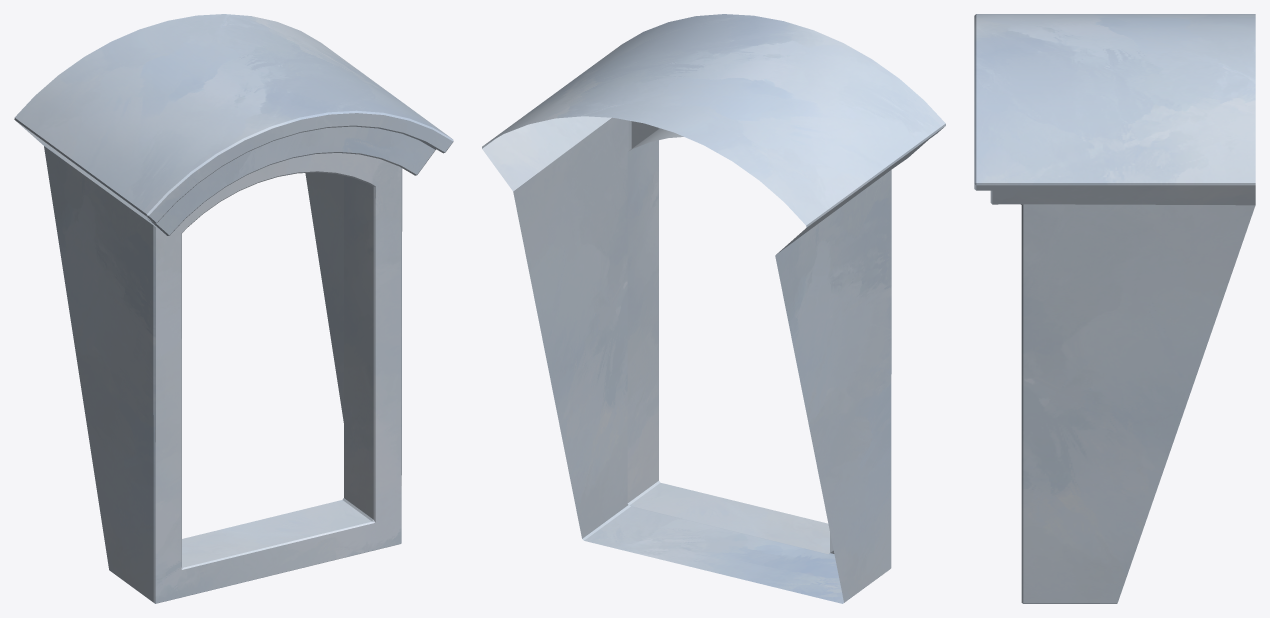
The model's file is Roof window.fbx.
3 views of the same model, side by side, from view 1: azimuth 30°, elevation 25°; view 2: azimuth 150°, elevation 25°; view 3: azimuth 270°, elevation 25° (orthographic). The views are drawn at different scales.
Parts seen in each view (by area): view 1: Roof window; view 2: Roof window; view 3: Roof window.
Part boxes in pixels (box(x1,y1,x2,y2)): Roof window: box(14, 14, 453, 603); Roof window: box(482, 14, 945, 603); Roof window: box(974, 14, 1255, 603).
Bounding box in the file's own units: 101 × 149 × 75.88.
